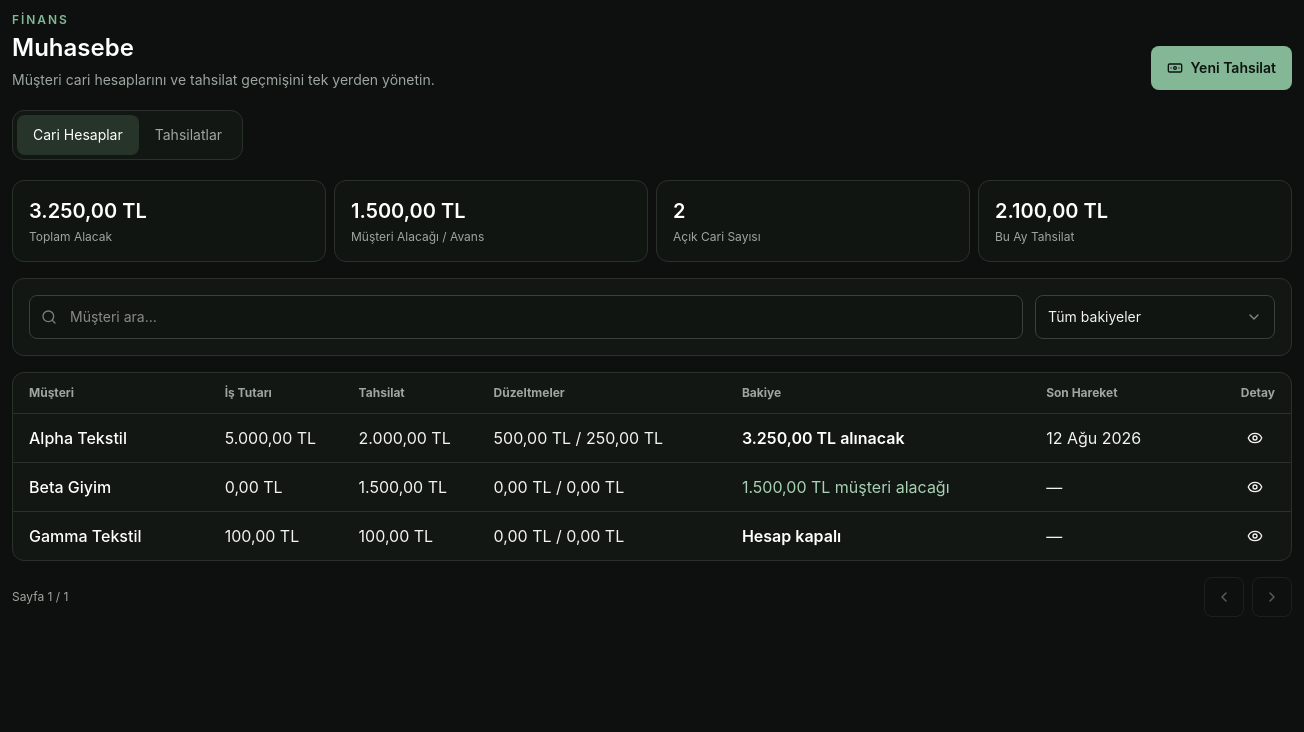
FinancePage › tahsilat listesini masaüstü tablo ve mobil kart olarak render eder
What coordinates should you click on to do the following:
click the tab "Tahsilatlar"
I would click on:
 (188, 135)
Its box is [139, 115, 238, 155].
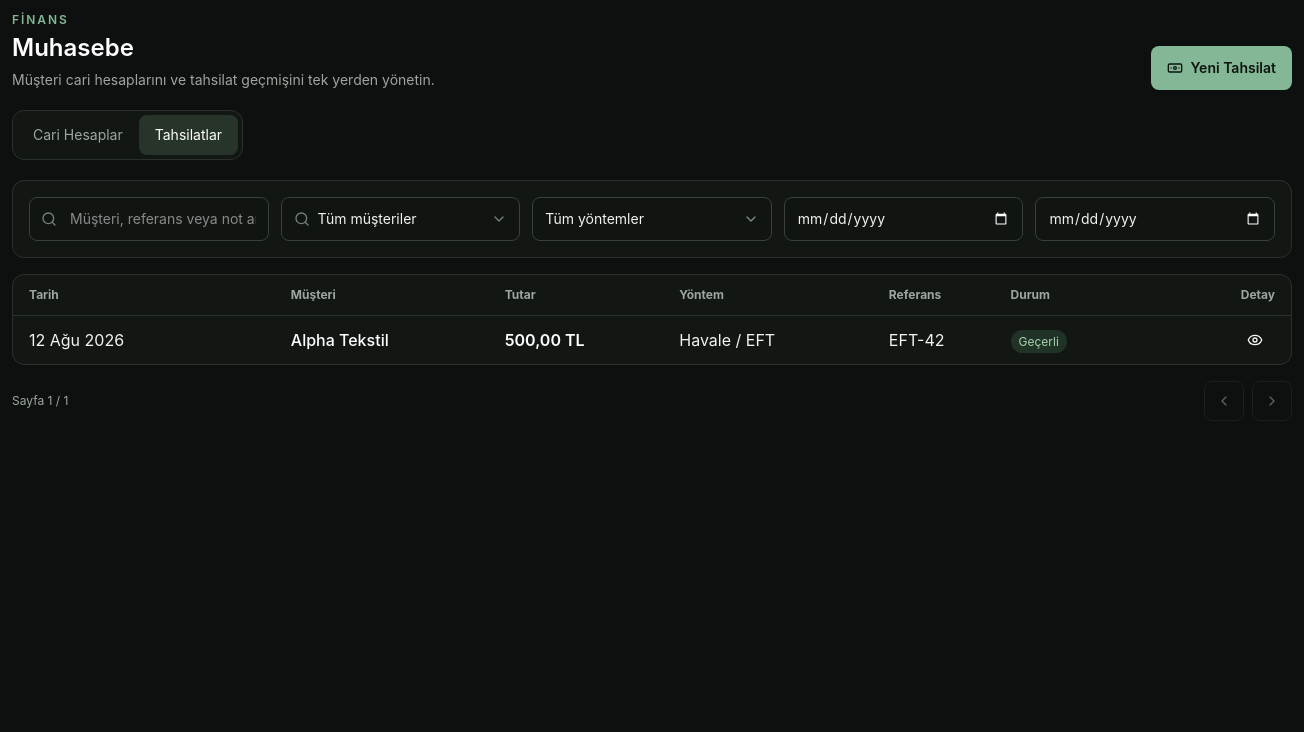
expect the table is shown: met, box [13, 275, 1291, 364]
expect the text "Havale / EFT" is shown: met, box [679, 316, 889, 364]
